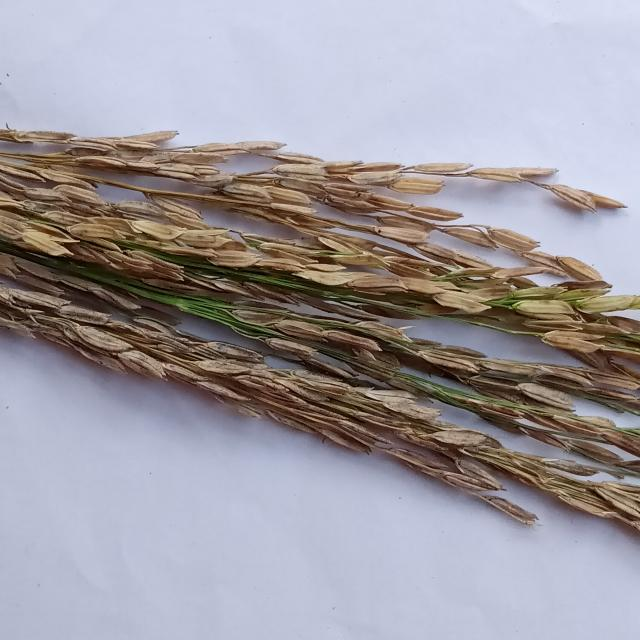Neck_Blast: (0, 310, 640, 544), (0, 183, 640, 392), (0, 130, 640, 290), (236, 303, 640, 441)
